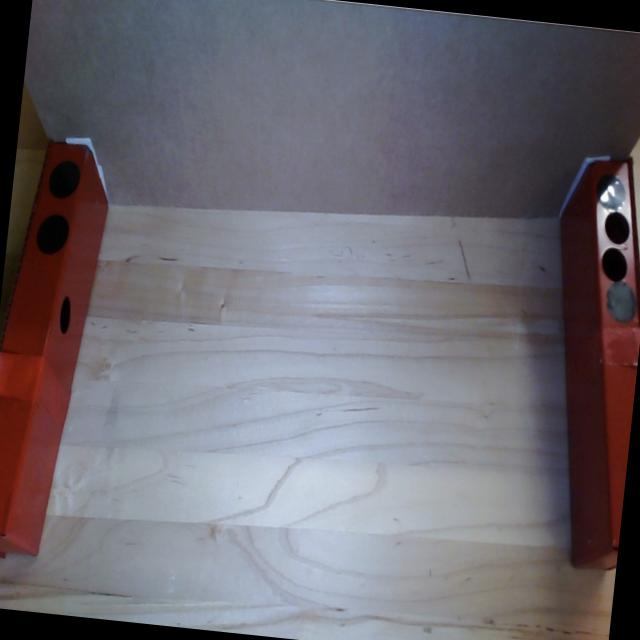Hole: (32, 209, 72, 261), (46, 154, 82, 201), (595, 245, 631, 282), (600, 210, 632, 250), (54, 290, 76, 342)
Sticker: (600, 278, 640, 330), (590, 166, 630, 212)
